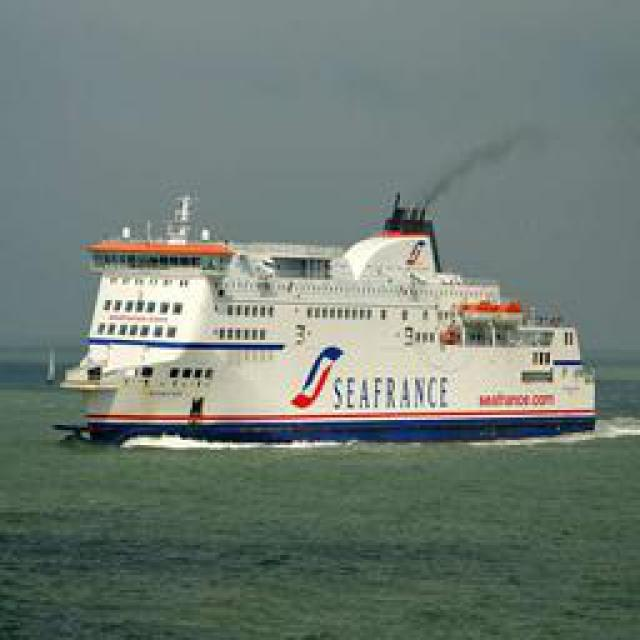Ship: (57, 197, 597, 437)
